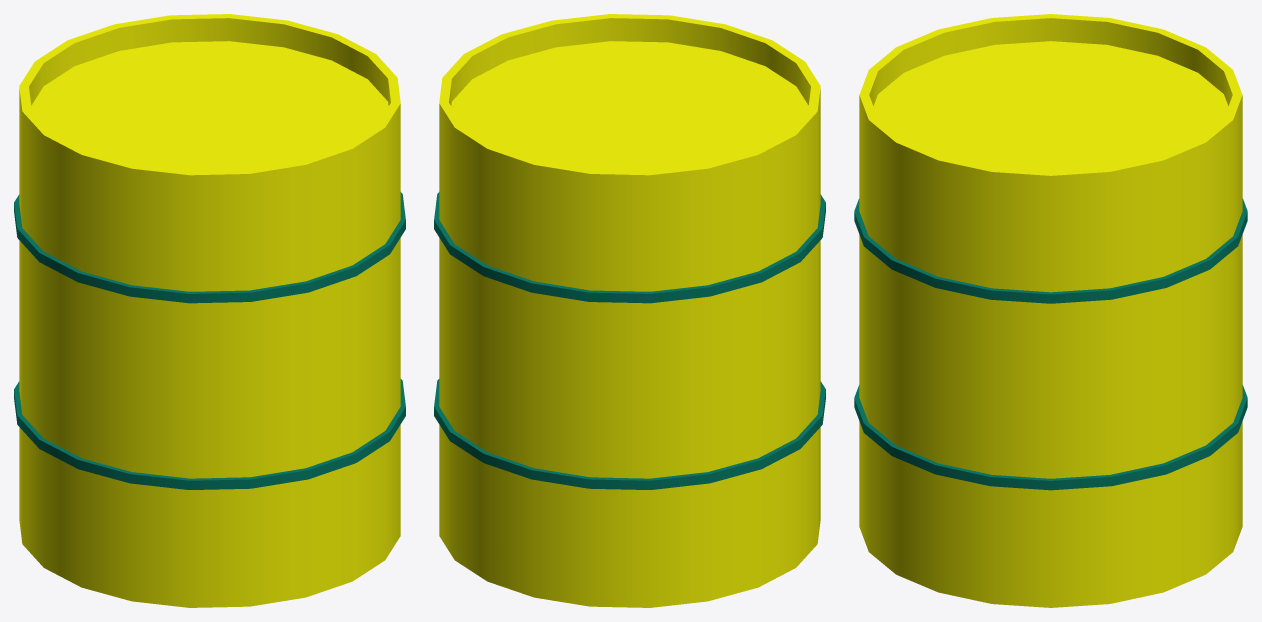
The model's file is SM_baril.fbx.
3 views of the same model, side by side, from view 1: azimuth 30°, elevation 25°; view 2: azimuth 150°, elevation 25°; view 3: azimuth 270°, elevation 25° (orthographic).
Visible parts, largest first — view 1: SM_baril; view 2: SM_baril; view 3: SM_baril.
Part boxes in pixels (x1,y1,x2,y2): SM_baril: [14, 14, 405, 607]; SM_baril: [434, 14, 825, 607]; SM_baril: [854, 14, 1247, 607].
Bounding box in the file's own units: 0.4871 × 0.5902 × 0.4871.
